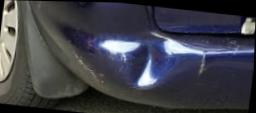Bumper: (117, 38, 217, 86)
